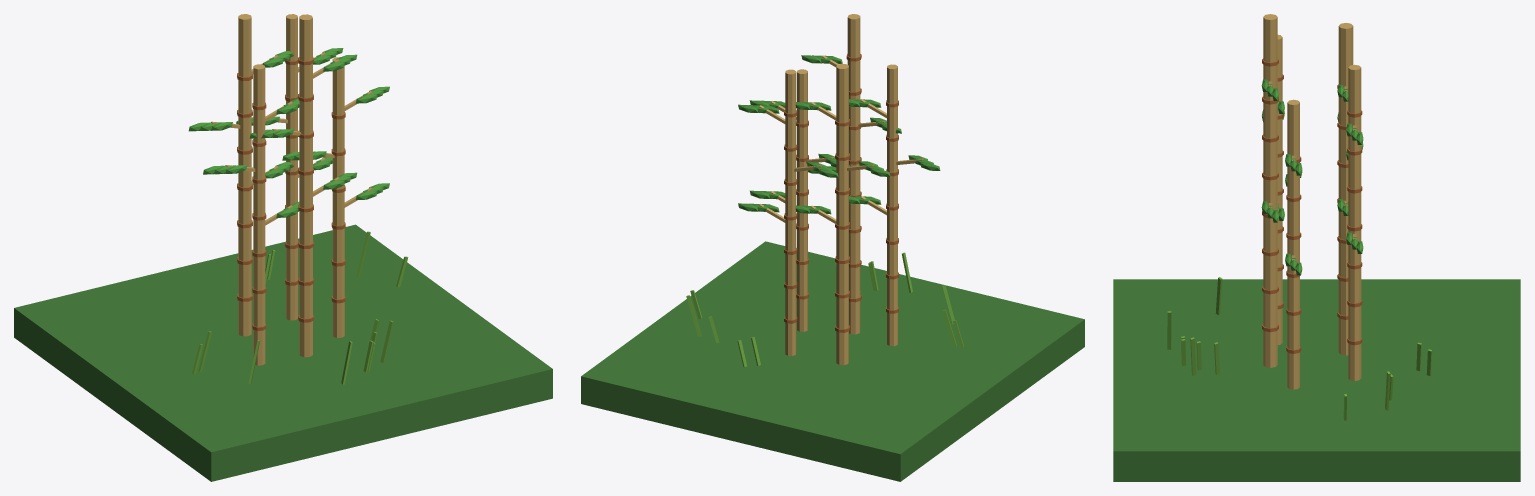
The model's file is bamboo_tree.glb.
3 renders of one model, left to right at view 1: azimuth 30°, elevation 25°; view 2: azimuth 150°, elevation 25°; view 3: azimuth 270°, elevation 25°, orthographic. The views are drawn at different scales.
Visible parts, largest first — view 1: TerrainBase, BambooStem.001, BambooStem.003, BambooStem, BambooStem.002, BambooStem.004; view 2: TerrainBase, BambooStem.003, BambooStem.001, BambooStem.004, BambooStem, BambooStem.002; view 3: TerrainBase, BambooStem.001, BambooStem.004, BambooStem.003, BambooStem.002, BambooStem.
Part boxes in pixels (bbox=[...]): TerrainBase: bbox=[14, 224, 552, 481]; BambooStem.001: bbox=[299, 14, 312, 357]; BambooStem.003: bbox=[238, 14, 251, 336]; BambooStem: bbox=[253, 64, 265, 365]; BambooStem.002: bbox=[332, 57, 344, 337]; BambooStem.004: bbox=[286, 14, 297, 320]; TerrainBase: bbox=[581, 241, 1084, 481]; BambooStem.003: bbox=[836, 63, 848, 365]; BambooStem.001: bbox=[847, 14, 860, 334]; BambooStem.004: bbox=[785, 69, 796, 355]; BambooStem: bbox=[887, 64, 897, 346]; BambooStem.002: bbox=[797, 69, 807, 331]; TerrainBase: bbox=[1113, 279, 1520, 481]; BambooStem.001: bbox=[1263, 14, 1277, 367]; BambooStem.004: bbox=[1348, 64, 1361, 380]; BambooStem.003: bbox=[1338, 23, 1353, 355]; BambooStem.002: bbox=[1287, 99, 1299, 389]; BambooStem: bbox=[1277, 34, 1282, 344].
Bounding box in the file's own units: 7 × 7.19 × 7.
